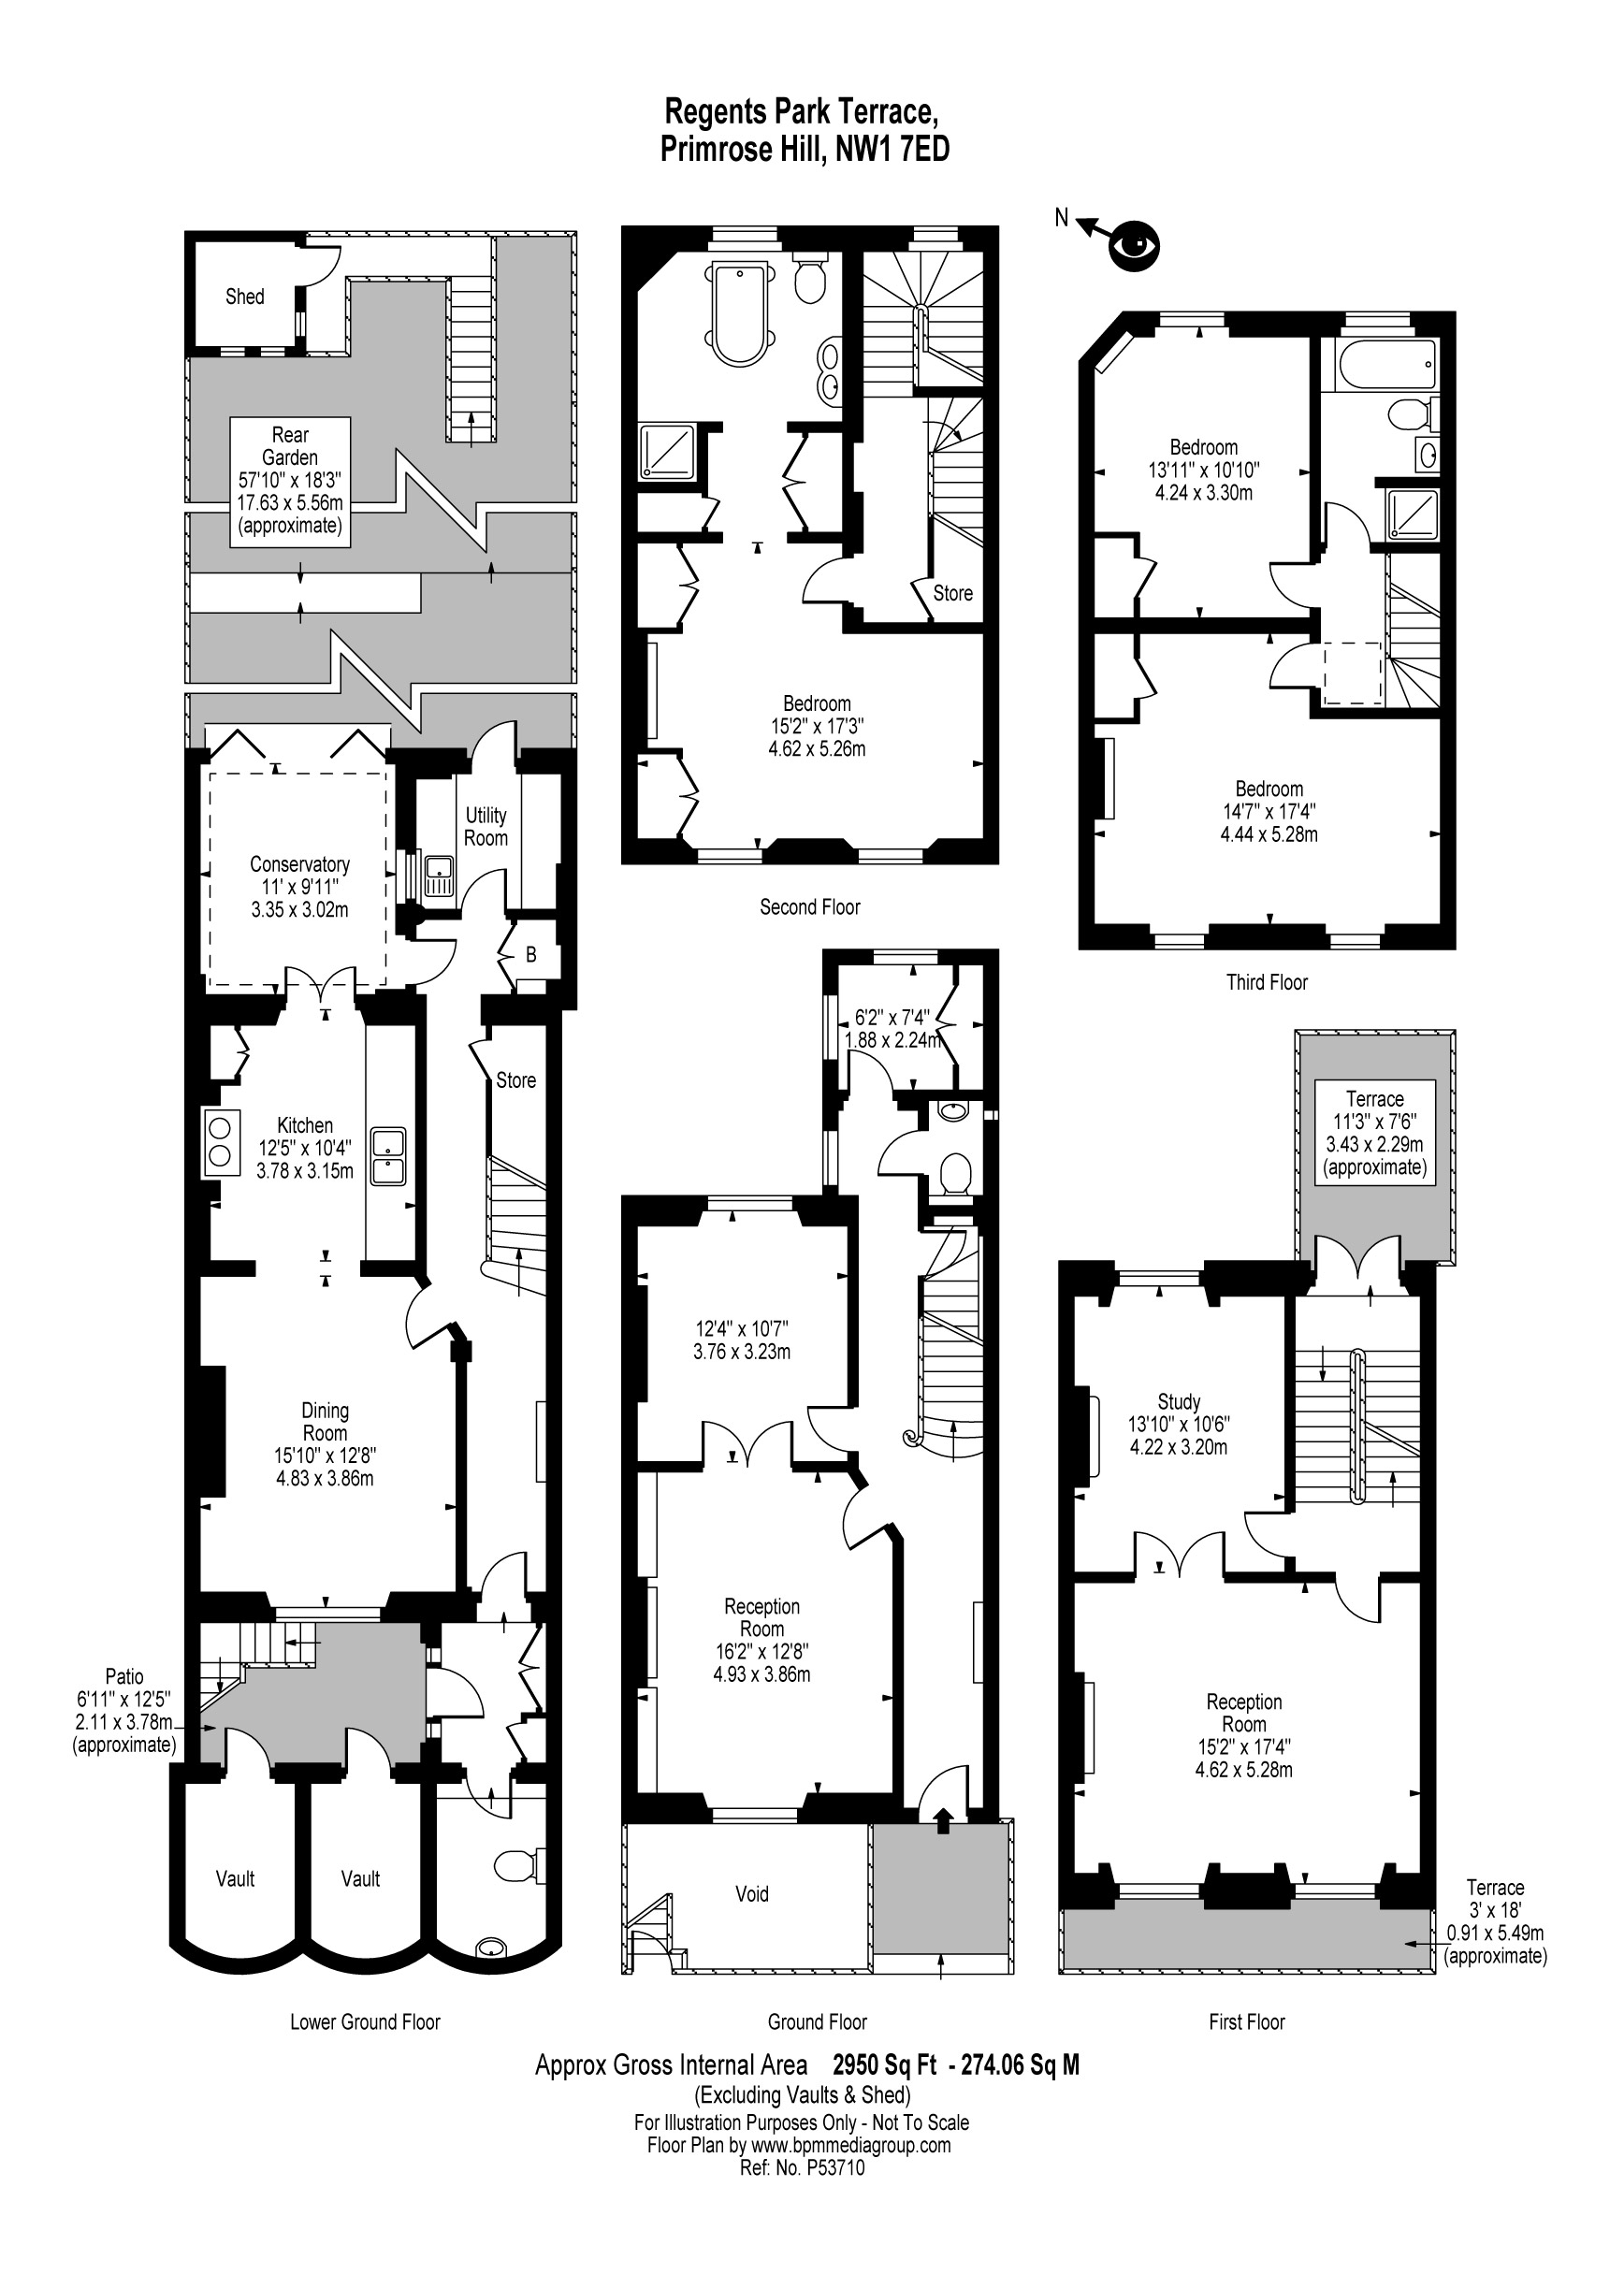door: (1128, 1524, 1229, 1568), (692, 1413, 796, 1455), (1311, 1227, 1410, 1271), (772, 438, 817, 527), (385, 1292, 446, 1353), (819, 1499, 882, 1557), (281, 960, 360, 995), (1251, 557, 1308, 606), (919, 1759, 974, 1808), (933, 988, 967, 1063), (221, 1724, 274, 1771), (796, 554, 840, 610), (1322, 496, 1373, 543), (872, 1126, 916, 1181), (323, 728, 385, 766), (445, 1668, 489, 1719), (460, 863, 513, 905), (805, 1402, 849, 1452), (673, 548, 703, 620), (464, 1784, 515, 1826), (1338, 1585, 1388, 1627), (1243, 1508, 1285, 1559), (480, 1546, 533, 1587), (1264, 640, 1304, 692), (675, 761, 705, 831), (845, 1049, 898, 1088), (515, 1629, 541, 1706), (211, 728, 265, 764), (473, 713, 518, 757), (422, 933, 460, 982), (343, 1724, 390, 1763), (306, 243, 344, 286), (487, 926, 518, 979), (907, 575, 935, 620), (230, 1033, 262, 1074), (1137, 654, 1164, 701), (466, 1039, 492, 1083), (1137, 554, 1162, 597), (503, 1722, 527, 1757), (703, 494, 729, 524)
